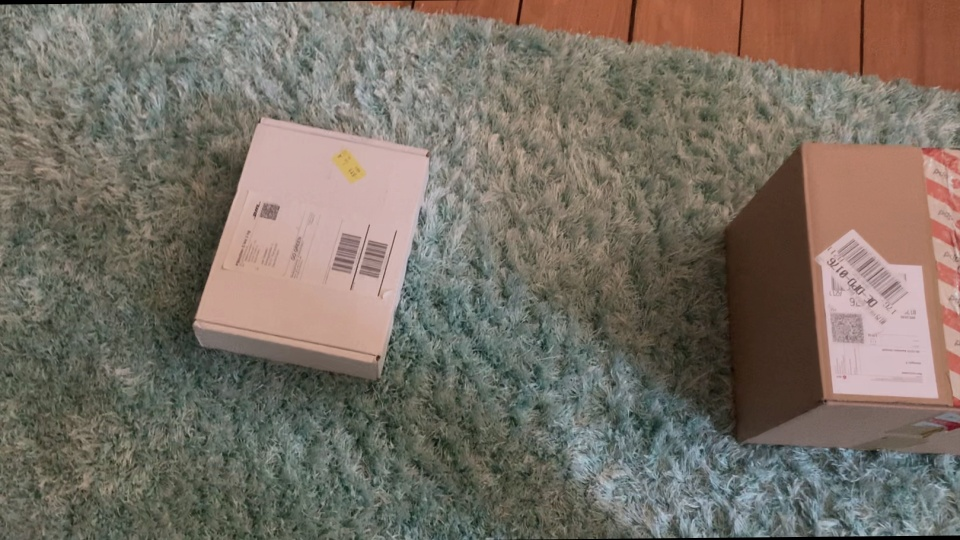good-parcel: (693, 112, 960, 472), (178, 102, 438, 391)
